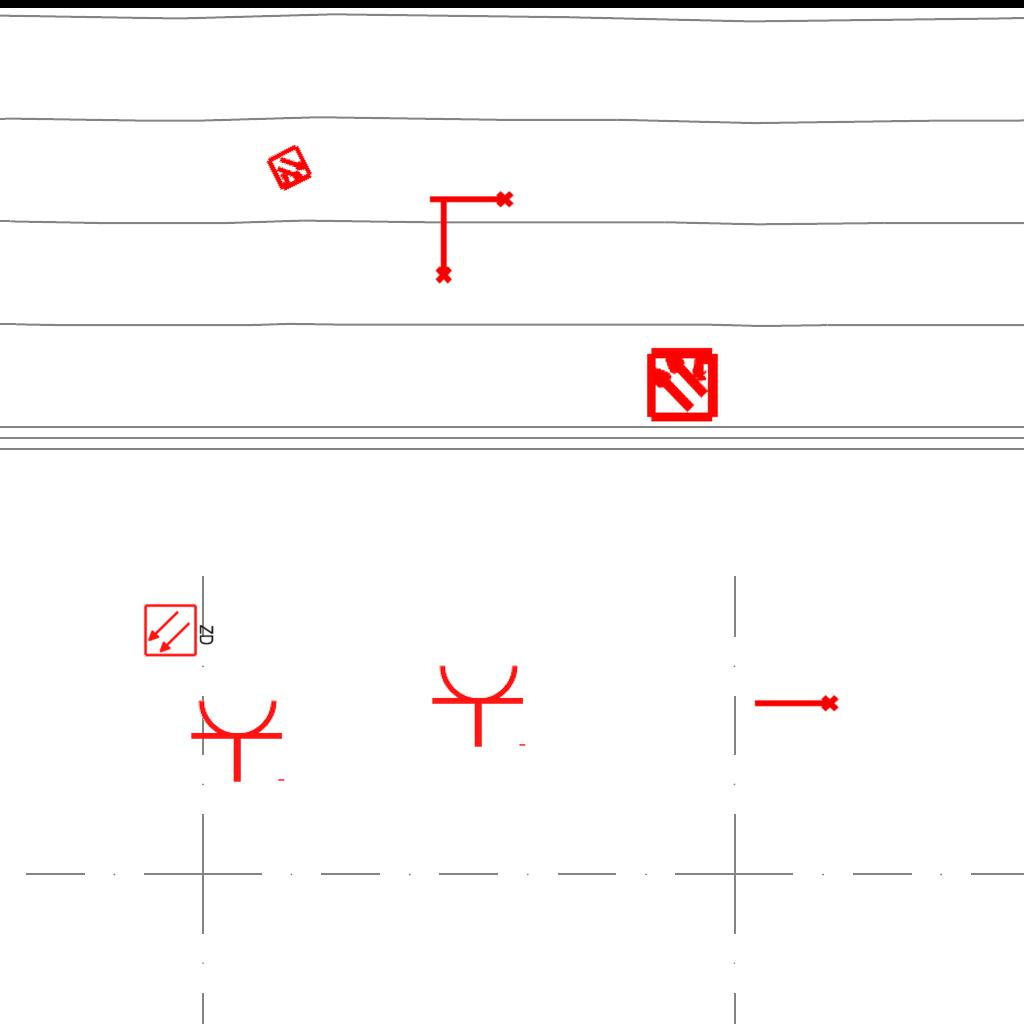ASR_Ansaugoeffnung: (427, 189, 515, 212), (752, 693, 840, 716), (431, 197, 454, 285)
OT_Multisensormelder_(Kombination_RMO_WMD): (626, 326, 739, 439), (252, 131, 328, 207)
Schukosteckdose_einfach: (189, 697, 289, 784), (430, 662, 530, 749)
ZD_Melder_in_Zwischendecke_mit_Revisionsoeffnung_mind_40_x_40_cm: (143, 601, 217, 658)
